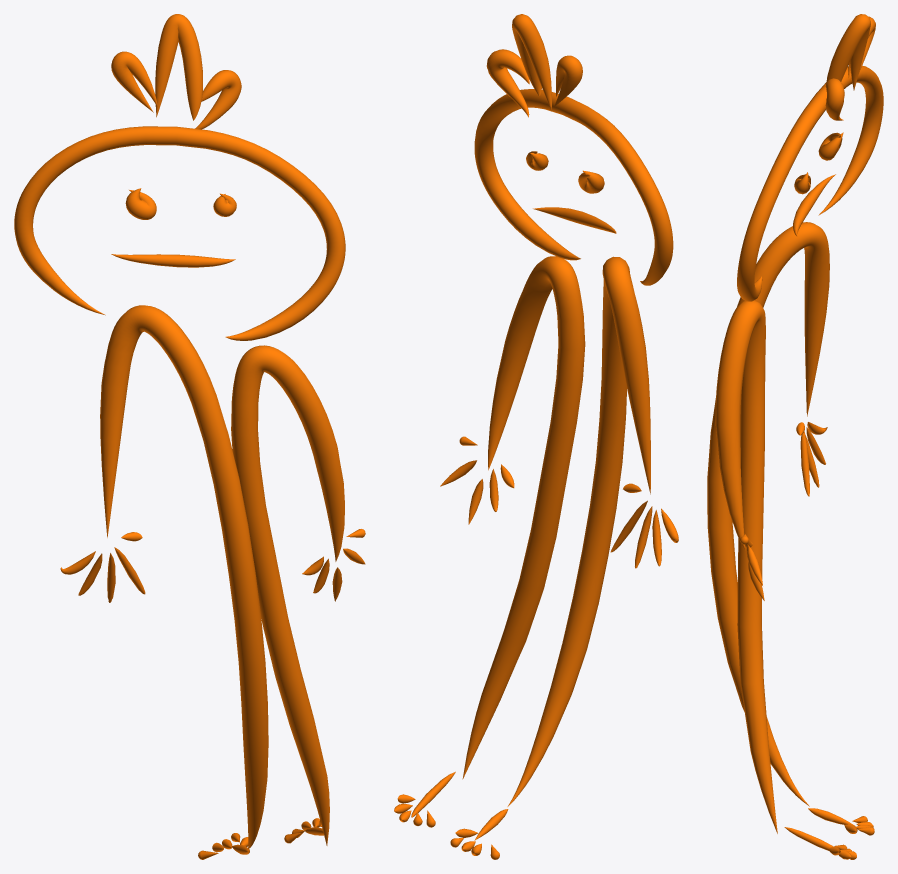
File: one1.glb
The picture shows the model from 3 angles, left to right: view 1: azimuth 30°, elevation 25°; view 2: azimuth 150°, elevation 25°; view 3: azimuth 270°, elevation 25°; orthographic projection. The views are drawn at different scales.
Visible parts, largest first — view 1: one1; view 2: one1; view 3: one1.
Part boxes in pixels (bbox=[...]): one1: bbox=[14, 14, 365, 859]; one1: bbox=[394, 14, 678, 859]; one1: bbox=[707, 14, 883, 859].
Bounding box in the file's own units: 0.3772 × 1.05 × 0.2097.
